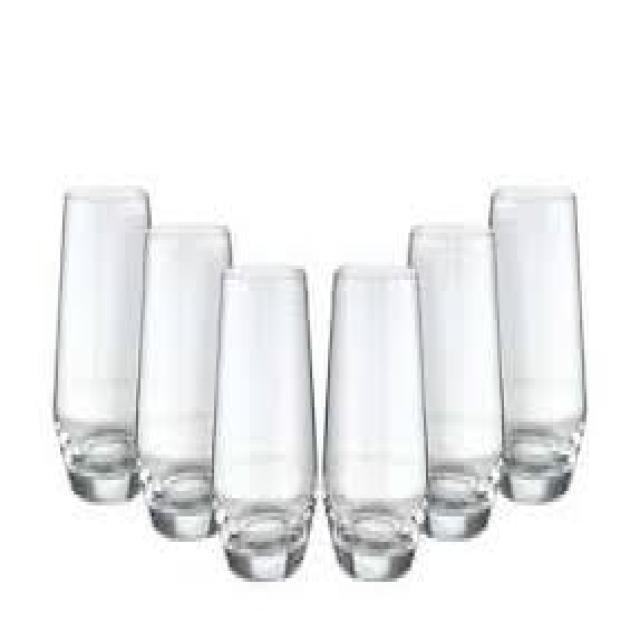glass: (54, 185, 317, 575), (323, 185, 584, 575)
